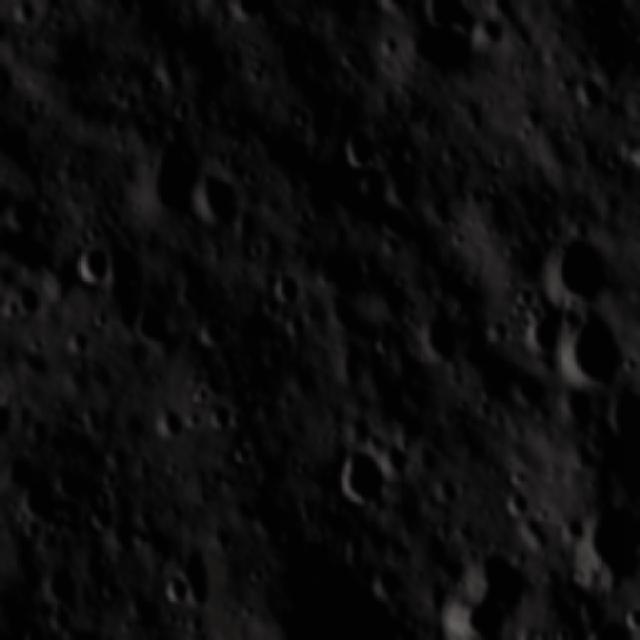crater: (428, 526, 532, 640), (541, 219, 634, 312), (564, 492, 640, 603), (557, 305, 640, 398), (134, 135, 200, 227), (324, 445, 394, 517), (402, 300, 467, 374), (412, 0, 496, 49), (190, 162, 242, 236), (10, 476, 64, 532), (128, 297, 180, 355), (340, 121, 385, 184), (62, 238, 113, 292), (81, 482, 130, 538), (603, 377, 640, 448), (522, 310, 566, 367), (366, 197, 417, 246), (40, 559, 86, 612), (569, 66, 617, 114), (554, 382, 598, 432), (507, 367, 551, 415), (3, 190, 45, 239), (0, 113, 34, 173), (153, 569, 195, 617), (0, 389, 28, 457), (147, 402, 188, 448), (498, 485, 545, 524), (269, 263, 309, 305), (229, 0, 275, 35), (12, 280, 46, 323), (198, 317, 236, 354), (205, 399, 242, 436), (60, 324, 94, 358), (371, 0, 418, 20), (0, 5, 14, 50), (0, 178, 12, 219)
